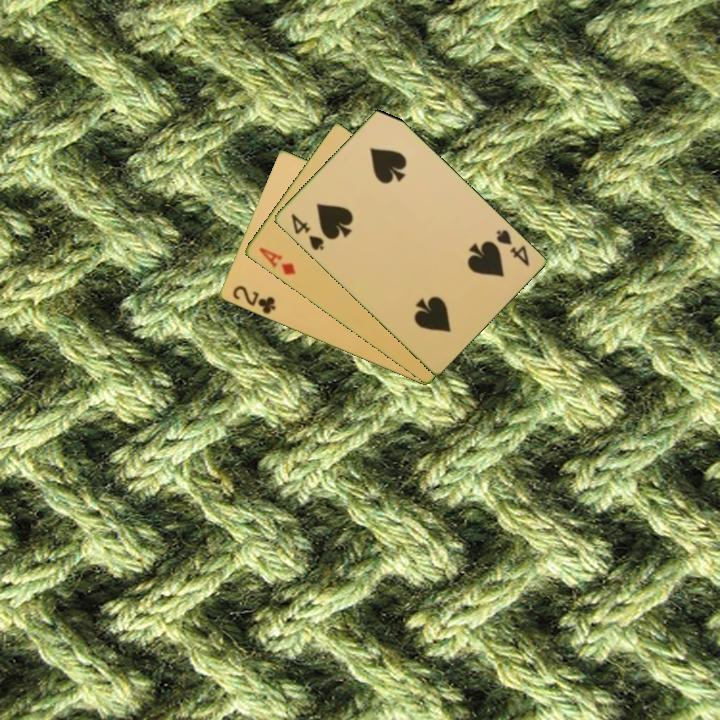2c: (229, 282, 278, 317)
4s: (492, 226, 532, 269), (287, 210, 326, 253)
Ad: (255, 244, 298, 278)
